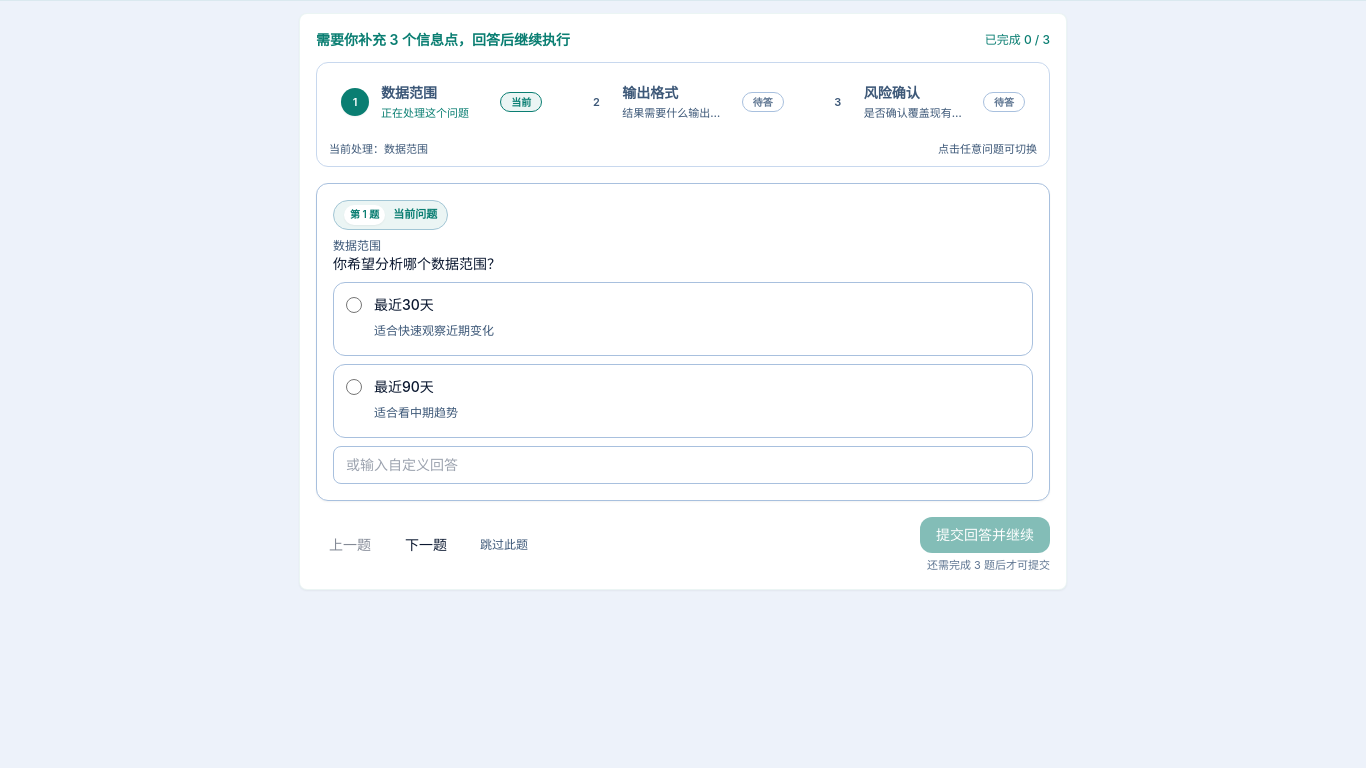
AskUserQuestionPanel › 未完成全部问题前应禁用提交按钮
Expected: the button "提交回答并继续" is disabled, [920,516,1050,552]
Expected: the text "还需完成 3 题后才可提交" is shown, [927,556,1050,573]
Click the radio button labelled "最近30天 适合快速观察近期变化": [354, 304] box [346,296,362,312]
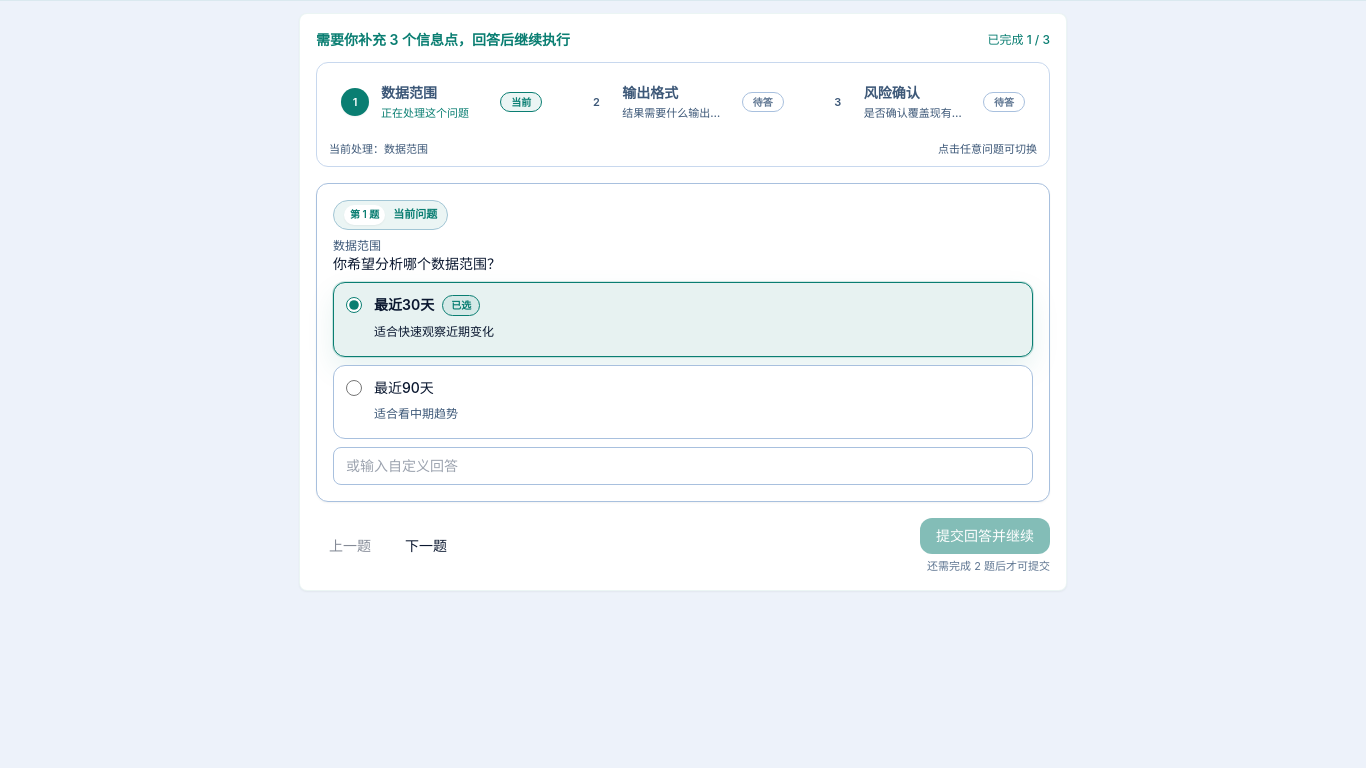
Expected: the button "提交回答并继续" is disabled, [920,518,1050,554]
Expected: the text "还需完成 2 题后才可提交" is shown, [927,558,1050,574]
